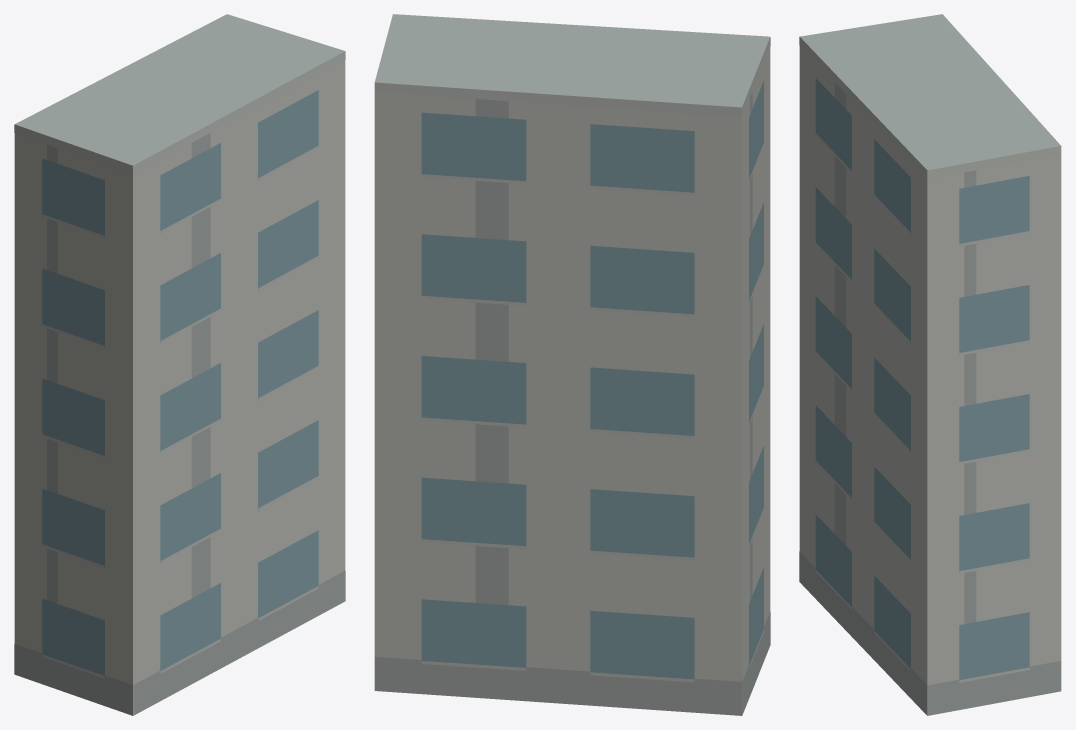
Rendered from survey-upis-32834293.glb.
3 renders of one model, left to right at view 1: azimuth 30°, elevation 25°; view 2: azimuth 150°, elevation 25°; view 3: azimuth 270°, elevation 25°, orthographic. The views are drawn at different scales.
Visible parts, largest first — view 1: survey-upis-32834293.tmp; view 2: survey-upis-32834293.tmp; view 3: survey-upis-32834293.tmp.
Boxes of the visible parts, box(x1,y1,x2,y2) form: survey-upis-32834293.tmp: box(14, 14, 345, 715); survey-upis-32834293.tmp: box(374, 14, 770, 715); survey-upis-32834293.tmp: box(799, 14, 1061, 715).
Size of the model in its own units: 9.39 by 15.25 by 6.64.
